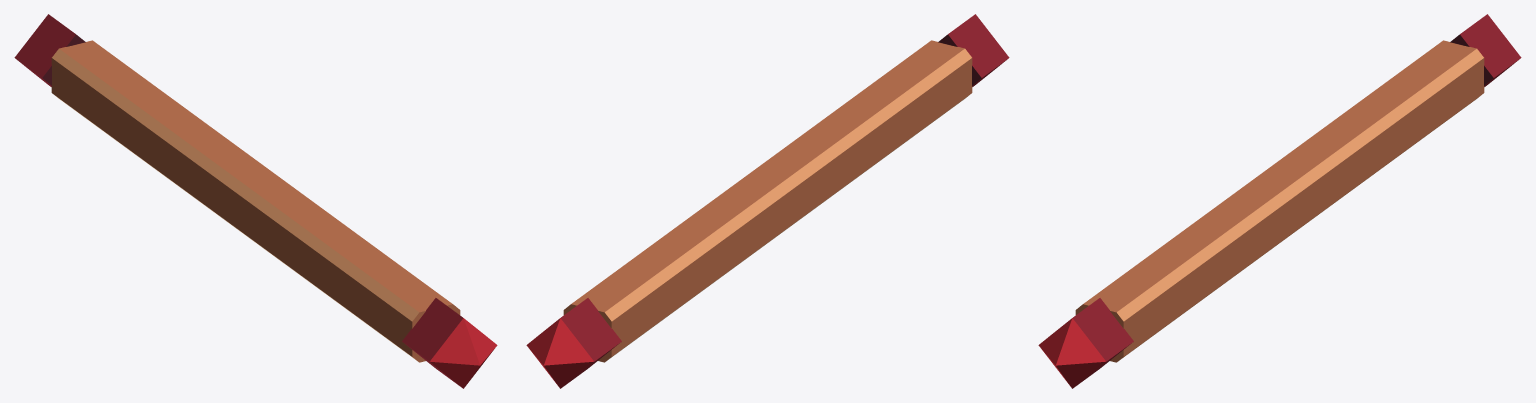
Rendered from Kibrit.dae.
3 renders of one model, left to right at view 1: azimuth 30°, elevation 25°; view 2: azimuth 150°, elevation 25°; view 3: azimuth 330°, elevation 25°, orthographic.
Visible parts, largest first — view 1: Cube; view 2: Cube; view 3: Cube.
Boxes of the visible parts, box(x1,y1,x2,y2) form: Cube: box(14, 14, 497, 388); Cube: box(526, 14, 1009, 388); Cube: box(1038, 14, 1521, 388).
Size of the model in its own units: 2.83 by 32.34 by 2.83.
1 material, 1 textured.
